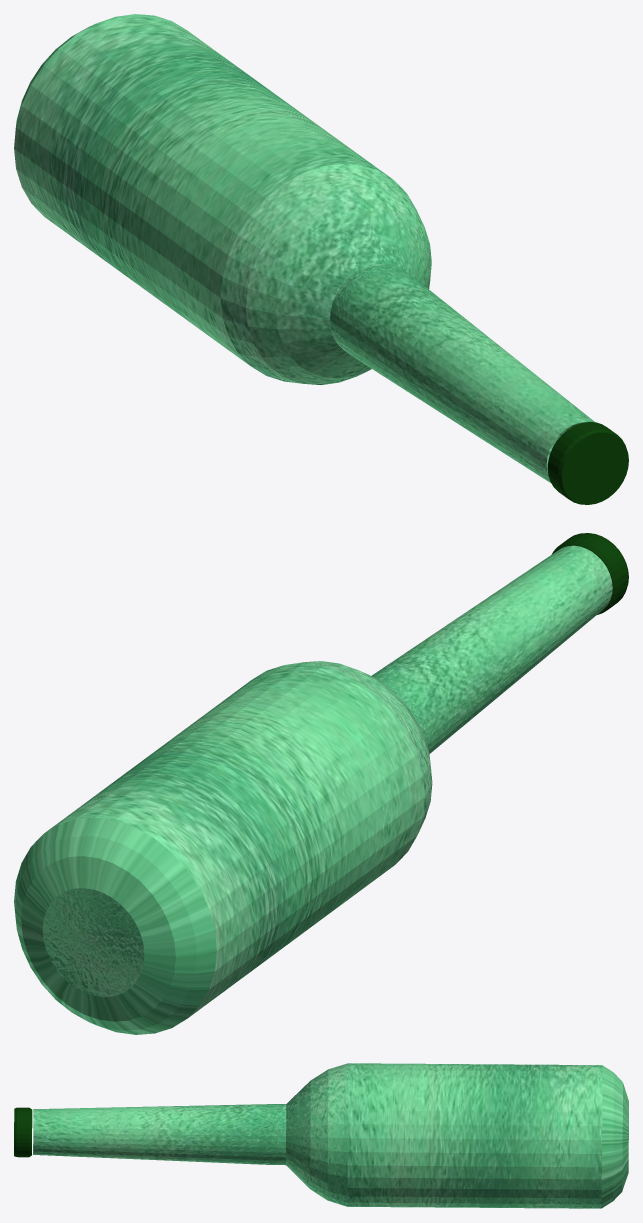
Rendered from glass_bottle_lay.dae.
3 views of the same model, one above another, from view 1: azimuth 30°, elevation 25°; view 2: azimuth 150°, elevation 25°; view 3: azimuth 270°, elevation 25° (orthographic). The views are drawn at different scales.
Visible parts, largest first — view 1: Cylinder, Cylinder.001; view 2: Cylinder, Cylinder.001; view 3: Cylinder, Cylinder.001.
Boxes of the visible parts, left/top/right/bottom form: Cylinder: left=14, top=14, right=594, bottom=483; Cylinder.001: left=547, top=422, right=628, bottom=504; Cylinder: left=14, top=545, right=612, bottom=1034; Cylinder.001: left=551, top=533, right=628, bottom=614; Cylinder: left=33, top=1063, right=628, bottom=1208; Cylinder.001: left=14, top=1107, right=32, bottom=1157.
Size of the model in its own units: 0.0643 by 0.2739 by 0.0648.
